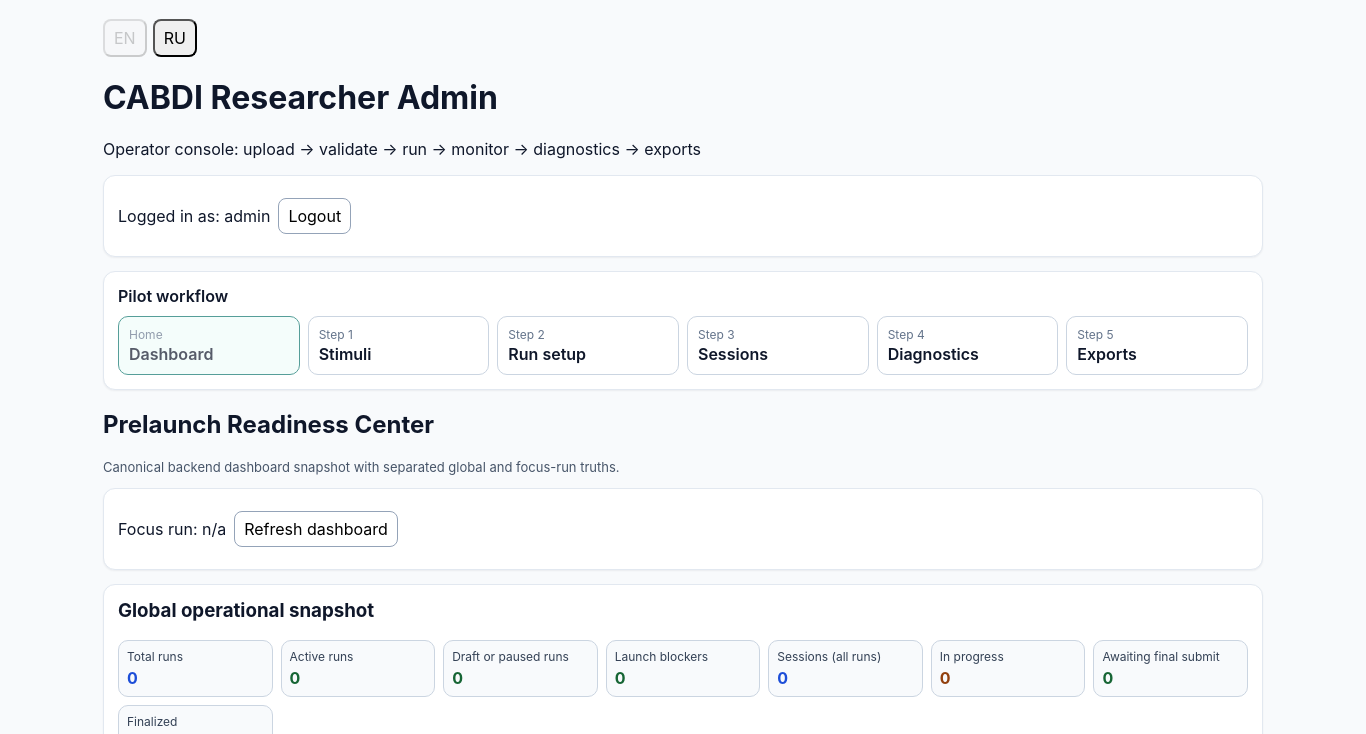
researcher auth shell › renders only the multi main-bank control in multi mode and supports multiple selections
Check: the text "Logged in as: admin" is shown, box top-left (118, 206), bottom-right (270, 226)
Step 1. Click the button with aria-label "Step 2: Create & Control Runs" → (588, 345), box top-left (497, 316), bottom-right (679, 375)
(page scrolled)
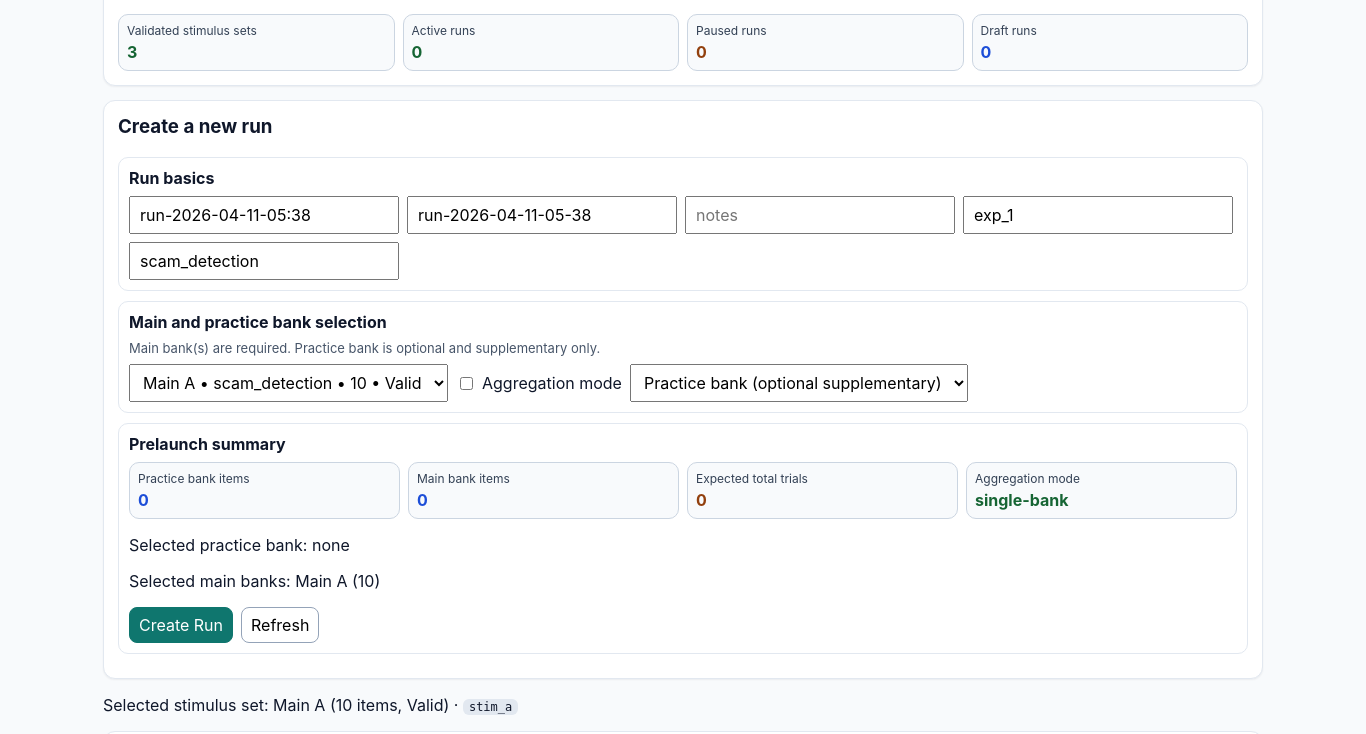
Step 2. Click the checkbox labelled "Aggregation mode" → (466, 383), box top-left (460, 377), bottom-right (473, 390)
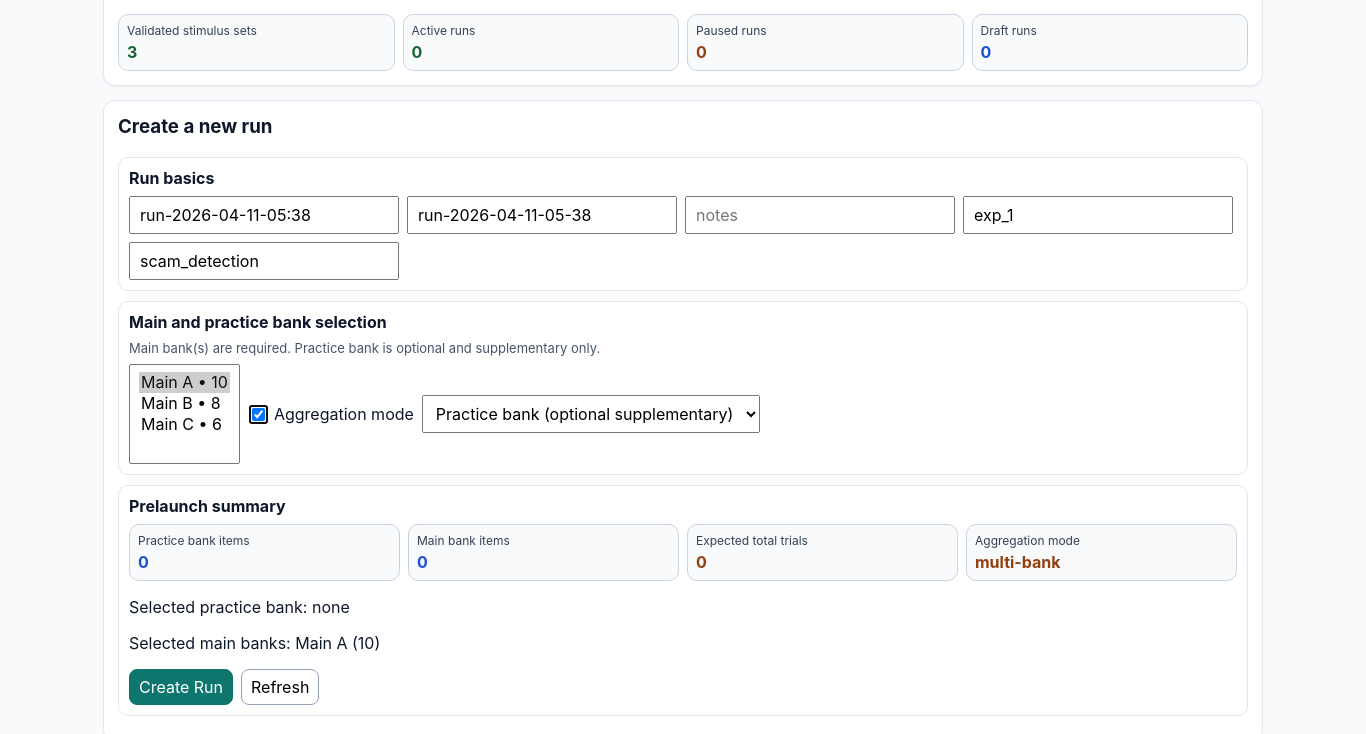
Step 3. Select "stim_a, stim_b, stim_c" in the dropdown named "Main banks" → (184, 414), box top-left (129, 364), bottom-right (240, 464)
(page scrolled)
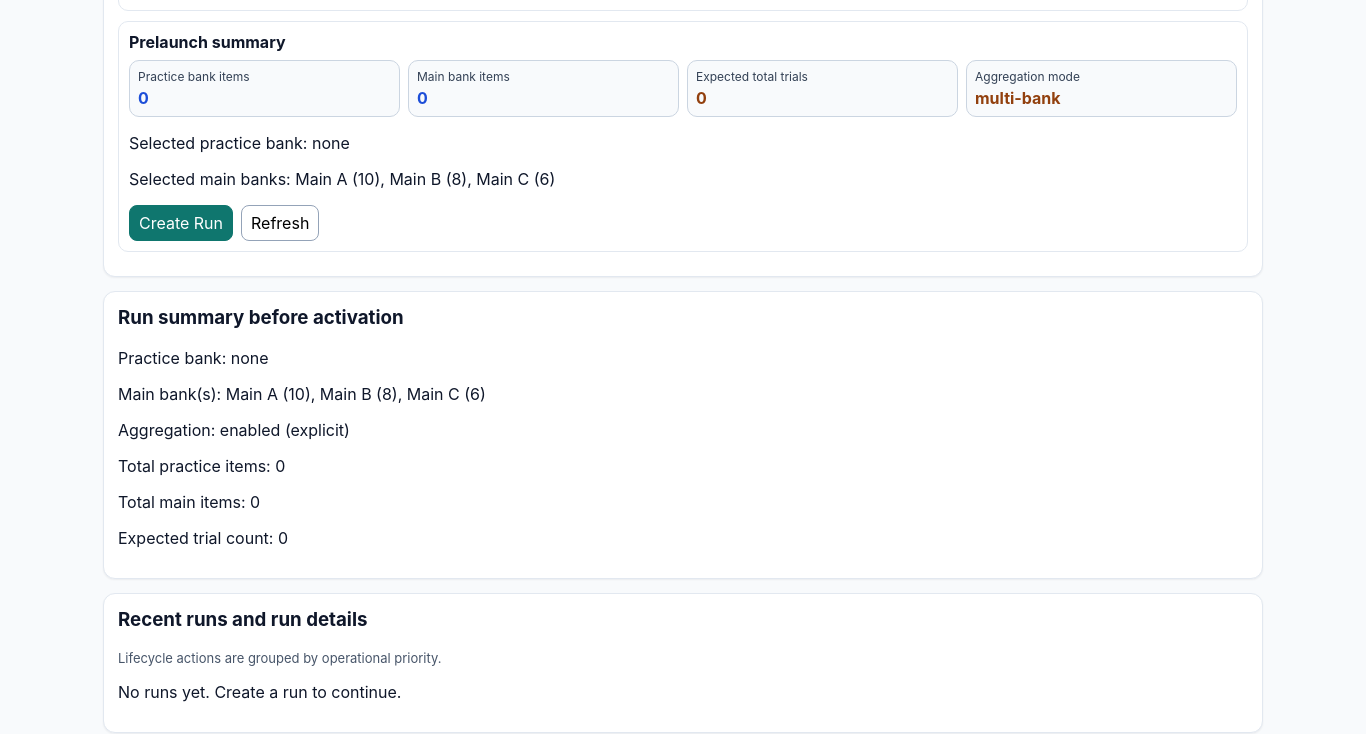
Check: the text "Main bank(s): Main A (10), Main B (8), Main C (6)" is shown, box top-left (118, 384), bottom-right (486, 404)
